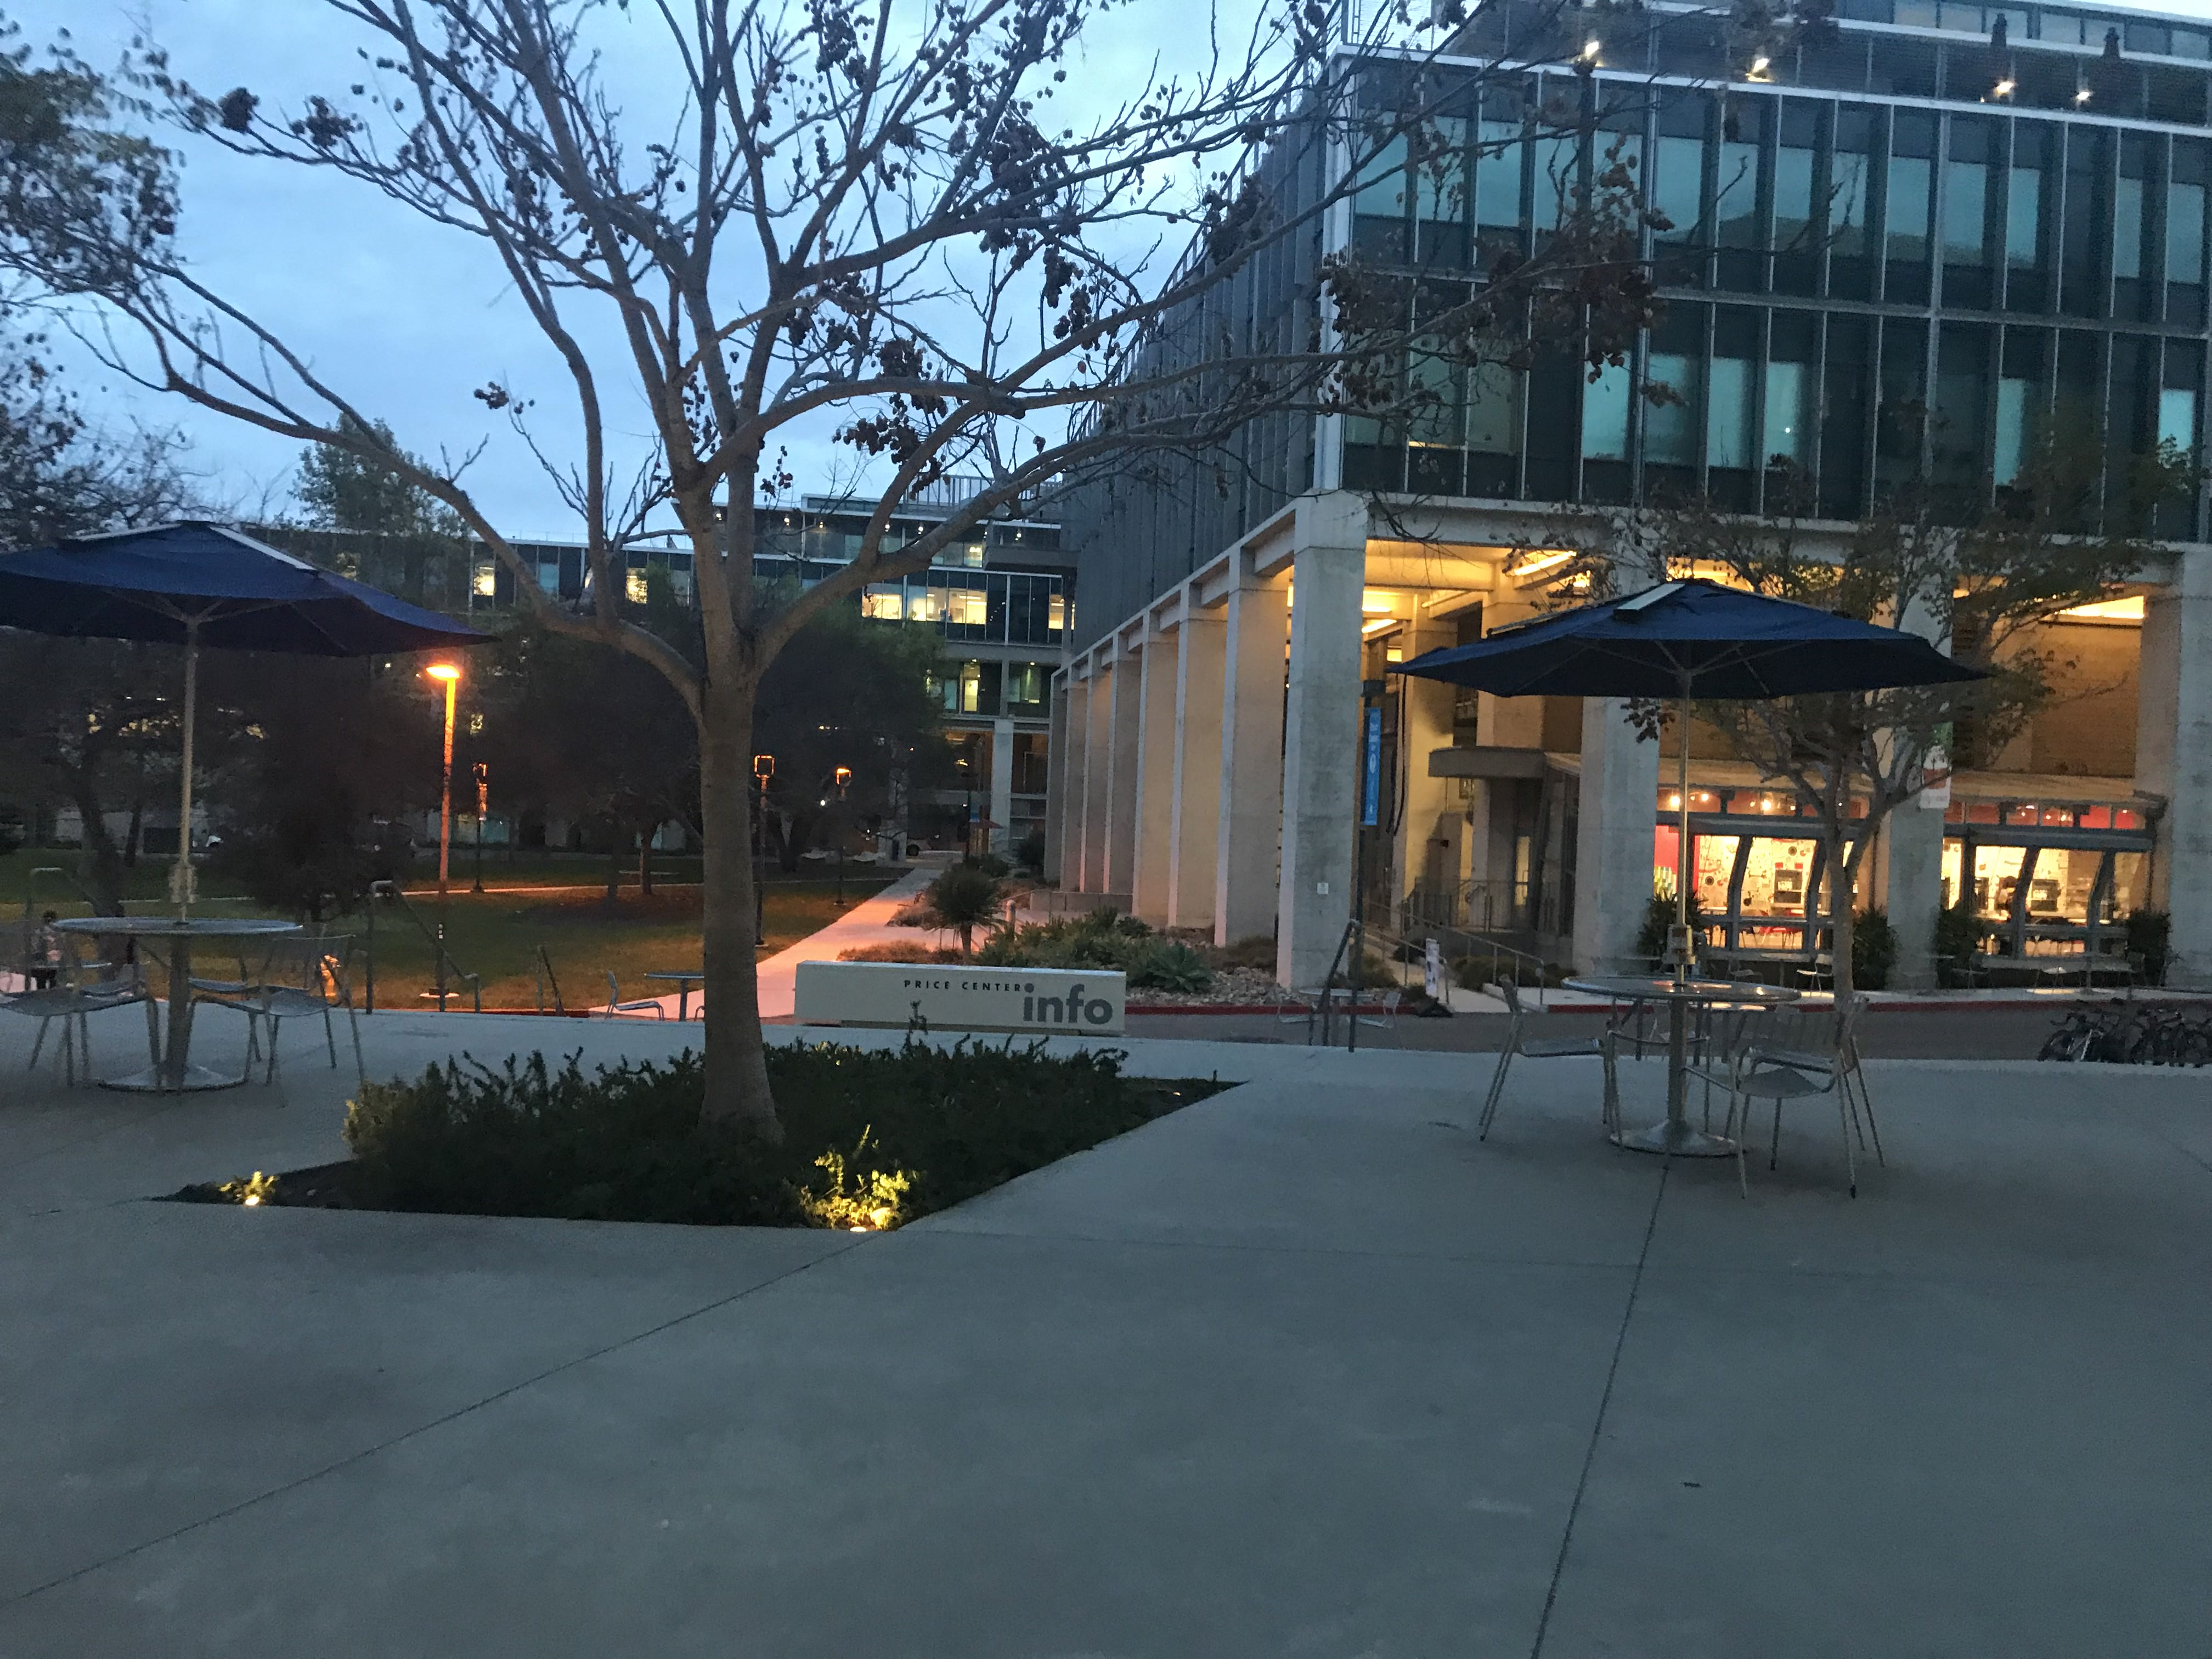Edge: (866, 1086, 1231, 1246), (165, 1199, 853, 1239), (1129, 1040, 2202, 1061)
Obstacle: (533, 580, 806, 1182), (1477, 922, 1876, 1190), (1416, 582, 2001, 742), (19, 890, 373, 1112)
